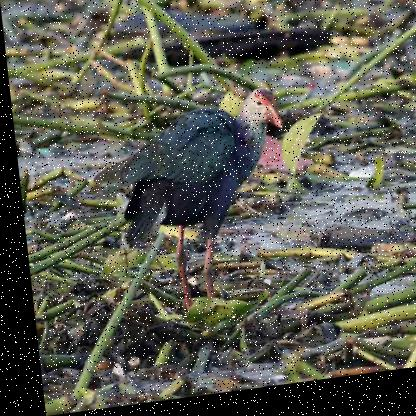Burung: (75, 85, 297, 332)
